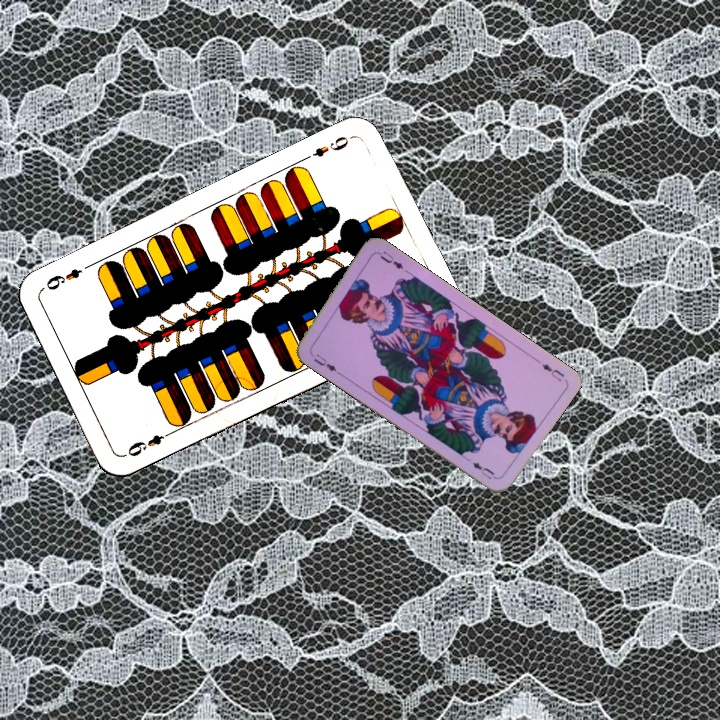E9: (121, 426, 177, 459), (300, 131, 356, 163)
EU: (306, 348, 342, 377), (538, 360, 567, 384)
